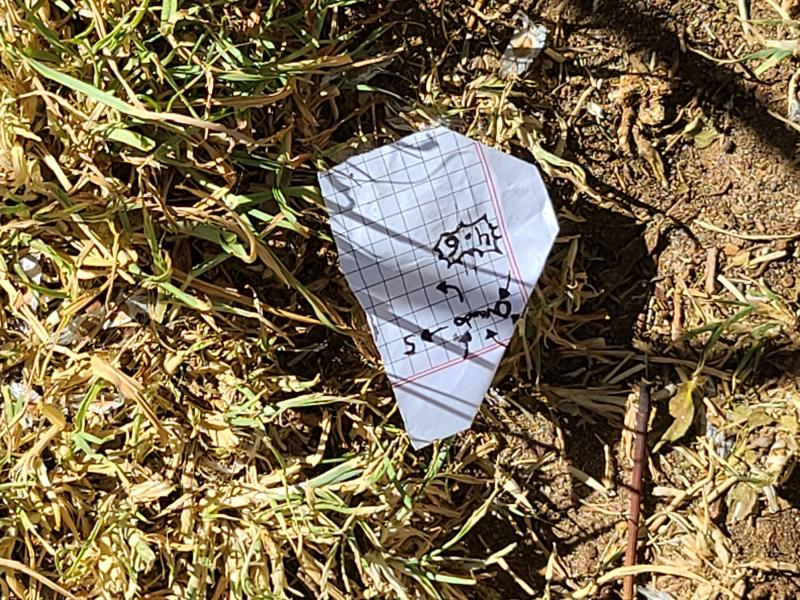papel: (317, 128, 559, 447)
